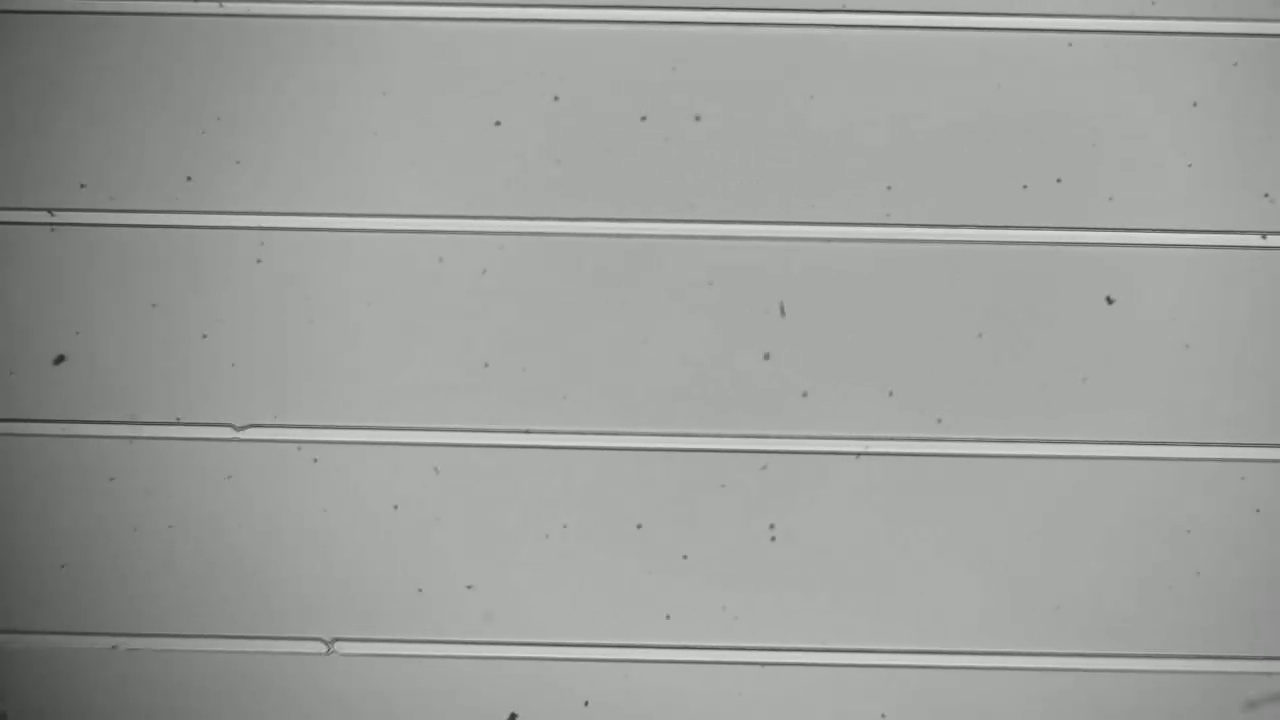edge_bite: (220, 420, 259, 450)
open: (313, 634, 346, 663)
stains_enbedded: (36, 201, 65, 240)
